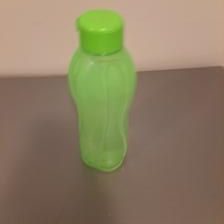bottle: (65, 6, 138, 175)
